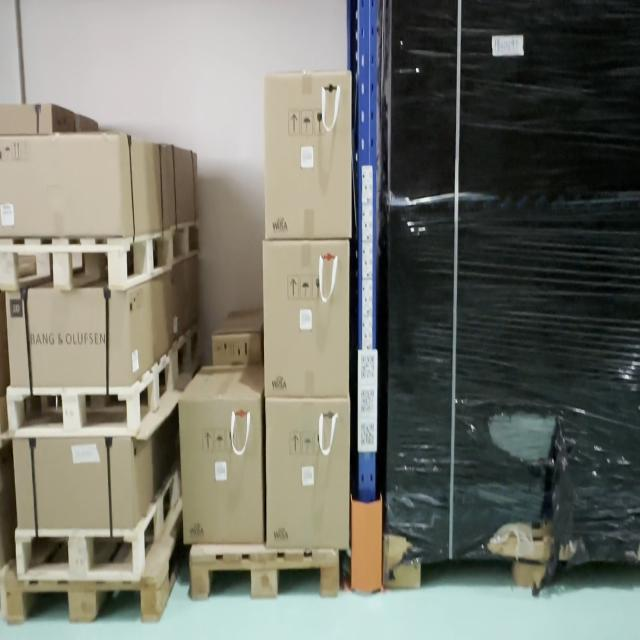box: (265, 73, 352, 239), (264, 244, 349, 394), (266, 404, 350, 544), (182, 406, 262, 548)
